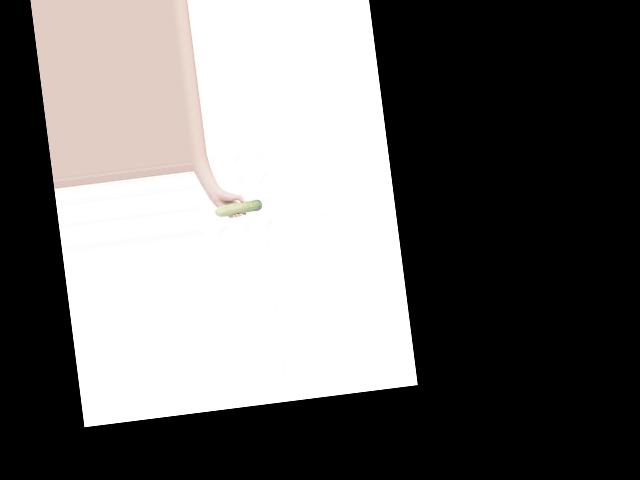cucumber: (213, 198, 262, 216)
